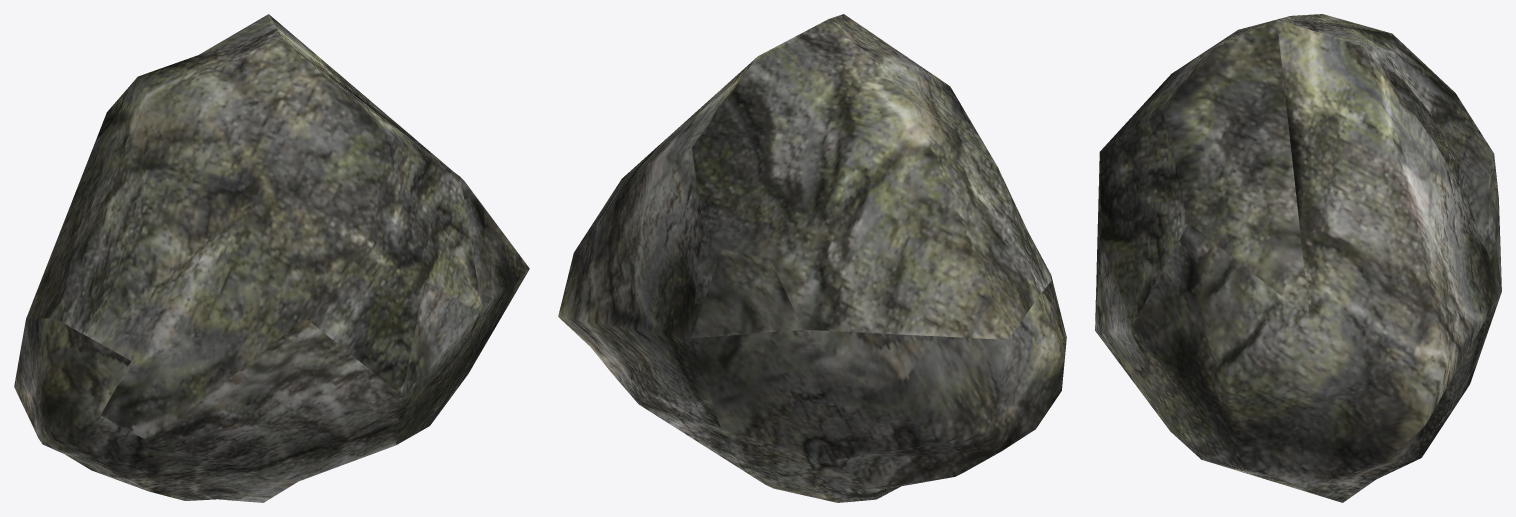
Rendered from rock2_LOD2.FBX.
3 views of the same model, side by side, from view 1: azimuth 30°, elevation 25°; view 2: azimuth 150°, elevation 25°; view 3: azimuth 270°, elevation 25° (orthographic). The views are drawn at different scales.
Parts seen in each view (by area): view 1: rock2_LOD2; view 2: rock2_LOD2; view 3: rock2_LOD2.
Part boxes in pixels (box(x1,y1,x2,y2)): rock2_LOD2: box(14, 14, 529, 502); rock2_LOD2: box(558, 14, 1066, 502); rock2_LOD2: box(1095, 14, 1501, 502).
Size of the model in its own units: 177 by 170 by 134.
